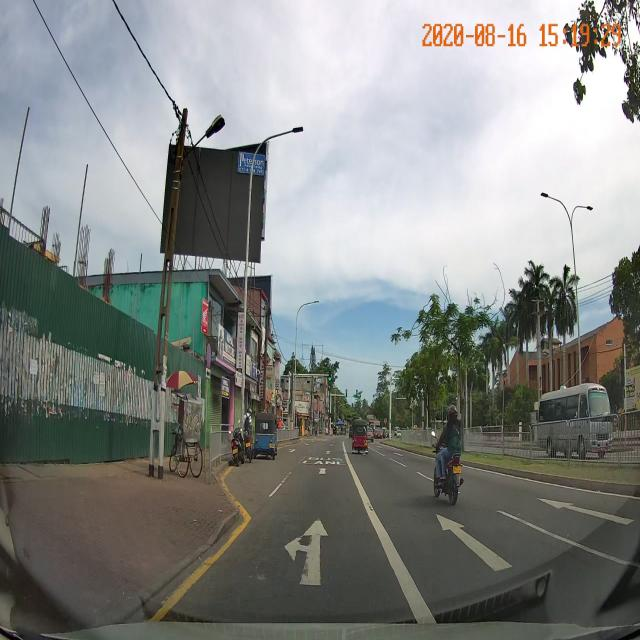forward_lft: (158, 487, 438, 622)
